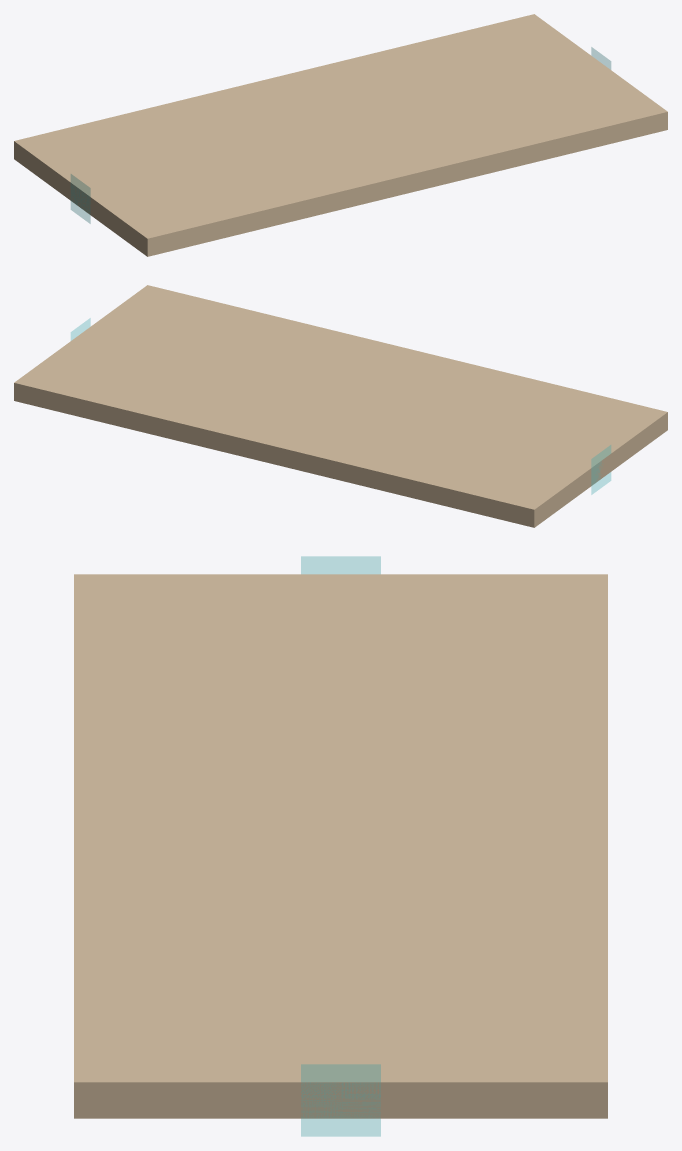
File: rack-shelf-900.glb
3 views of the same model, one above another, from view 1: azimuth 30°, elevation 25°; view 2: azimuth 150°, elevation 25°; view 3: azimuth 270°, elevation 25° (orthographic). The views are drawn at different scales.
Visible parts, largest first — view 1: body, md-snap.shelf-level.mount-left; view 2: body, md-snap.shelf-level.mount-left; view 3: body, md-snap.shelf-level.mount-right, md-snap.shelf-level.mount-left.
Part boxes in pixels (x1=…): body: x1=14, y1=14, x2=667, y2=256; md-snap.shelf-level.mount-left: x1=71, y1=174, x2=90, y2=223; body: x1=14, y1=285, x2=667, y2=527; md-snap.shelf-level.mount-left: x1=591, y1=445, x2=610, y2=494; body: x1=74, y1=574, x2=607, y2=1118; md-snap.shelf-level.mount-right: x1=301, y1=1064, x2=380, y2=1136; md-snap.shelf-level.mount-left: x1=301, y1=556, x2=380, y2=573.
Bounding box in the file's own units: 0.9 × 0.06 × 0.4.
